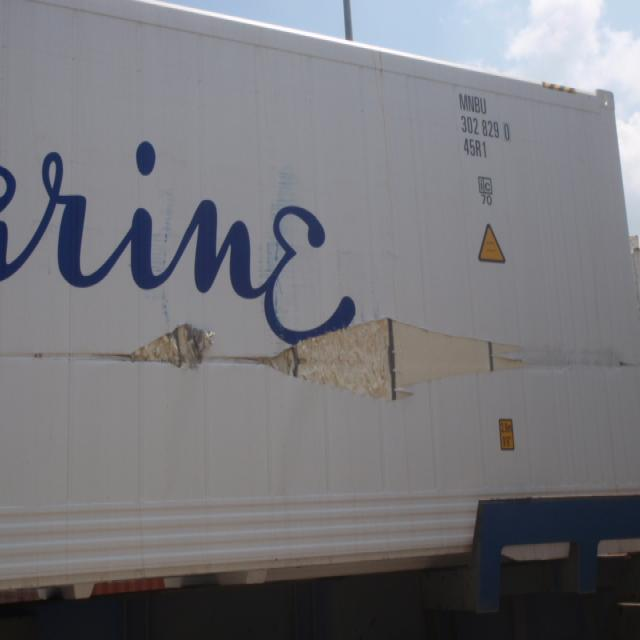hole: (259, 315, 530, 408), (131, 324, 219, 385), (2, 351, 135, 367), (217, 355, 267, 370)
